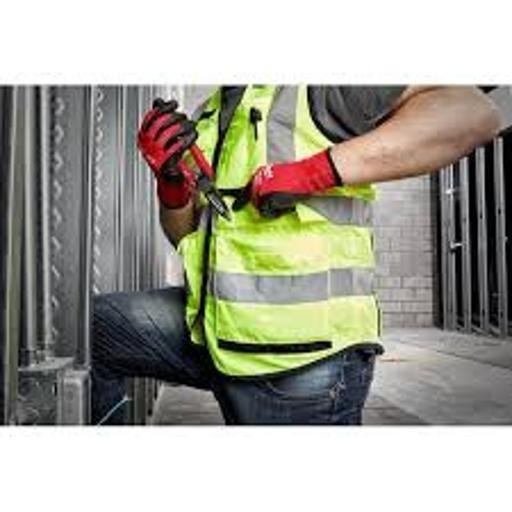Humans: (79, 81, 500, 427)
Vest: (165, 78, 400, 380)
